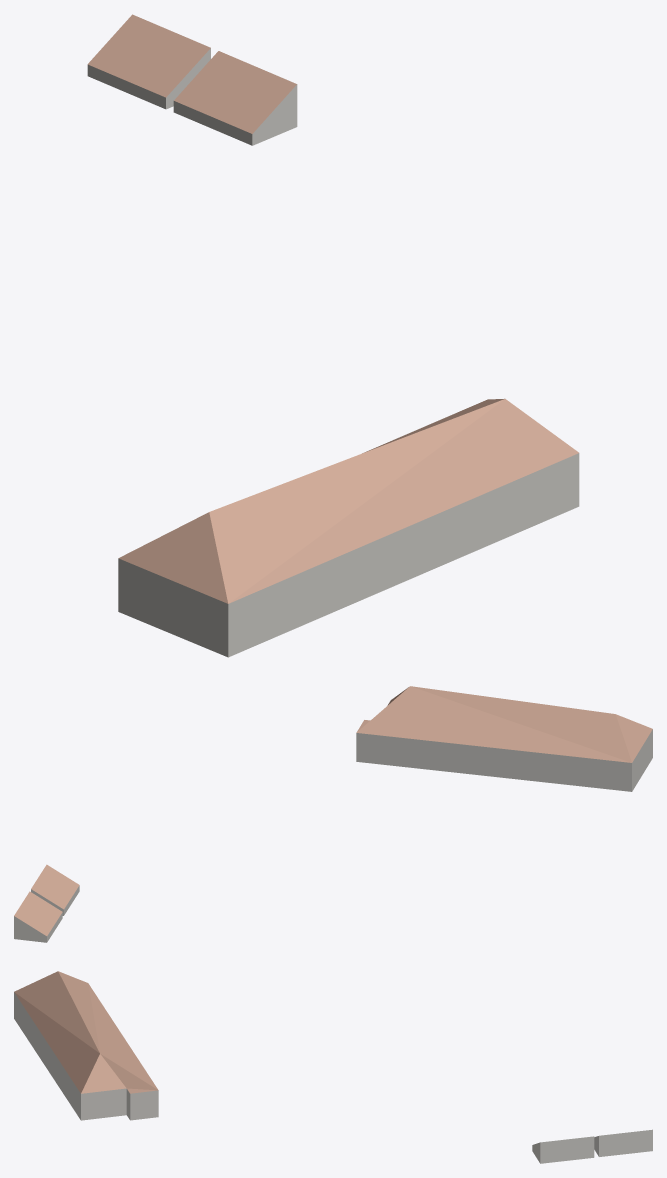
The model's file is gridID_70.dae.
The picture shows the model from 3 angles, top to bottom: view 1: azimuth 30°, elevation 25°; view 2: azimuth 150°, elevation 25°; view 3: azimuth 270°, elevation 25°; orthographic projection. The views are drawn at different scales.
Parts seen in each view (by area): view 1: model_gridID_70_w114518348, model_gridID_70_w375219023_001, model_gridID_70_w375219023; view 2: model_gridID_70_w114518348, model_gridID_70_w375219023, model_gridID_70_w375219023_001; view 3: model_gridID_70_w114518348, model_gridID_70_w375219023_001, model_gridID_70_w375219023.
Boxes of the visible parts, x1,y1,x2,y2 form: model_gridID_70_w114518348: [118, 398, 579, 657]; model_gridID_70_w375219023_001: [173, 51, 297, 145]; model_gridID_70_w375219023: [87, 14, 210, 109]; model_gridID_70_w114518348: [356, 686, 652, 791]; model_gridID_70_w375219023: [14, 891, 62, 942]; model_gridID_70_w375219023_001: [31, 864, 79, 915]; model_gridID_70_w114518348: [14, 971, 158, 1120]; model_gridID_70_w375219023_001: [532, 1136, 594, 1163]; model_gridID_70_w375219023: [594, 1129, 652, 1156].
Size of the model in its own units: 61.63 by 108 by 10.
